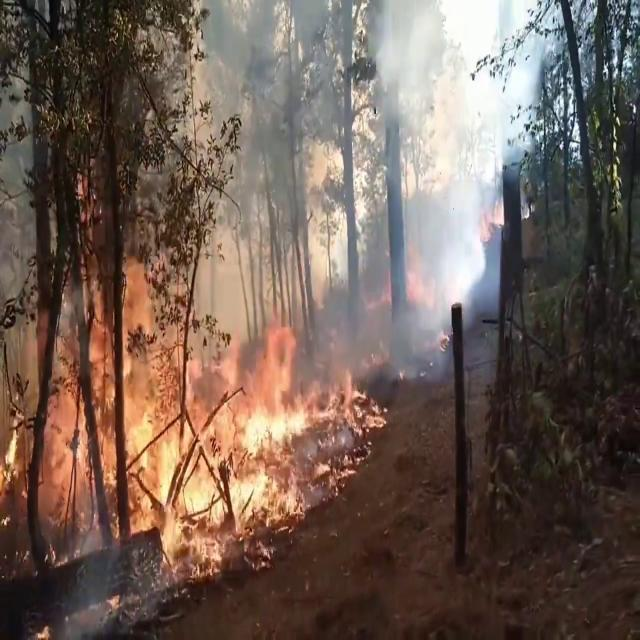Fire: (11, 246, 340, 566)
Smoke: (191, 0, 502, 375)
